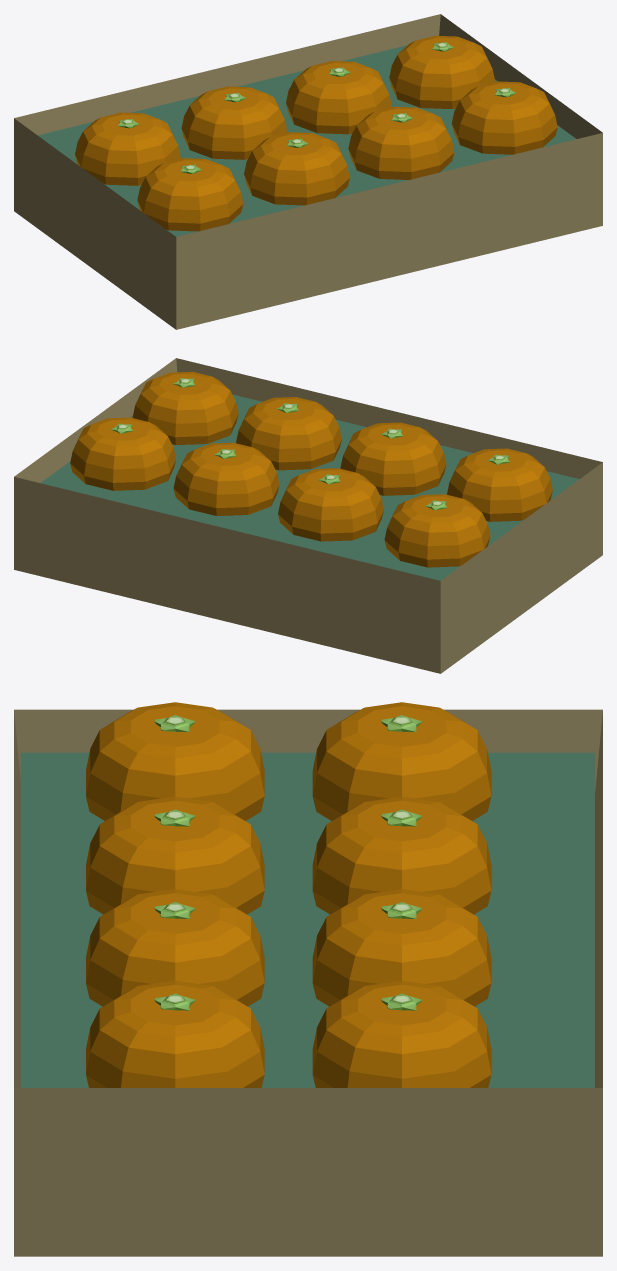
The model's file is orange_box1.fbx.
The picture shows the model from 3 angles, top to bottom: view 1: azimuth 30°, elevation 25°; view 2: azimuth 150°, elevation 25°; view 3: azimuth 270°, elevation 25°; orthographic projection. The views are drawn at different scales.
Parts seen in each view (by area): view 1: orange_box; view 2: orange_box; view 3: orange_box.
Boxes of the visible parts, x1,y1,x2,y2 form: orange_box: (14, 14, 602, 329); orange_box: (14, 358, 602, 673); orange_box: (14, 702, 602, 1256).
Size of the model in its own units: 120 by 31.11 by 79.
4 materials, 1 textured.
